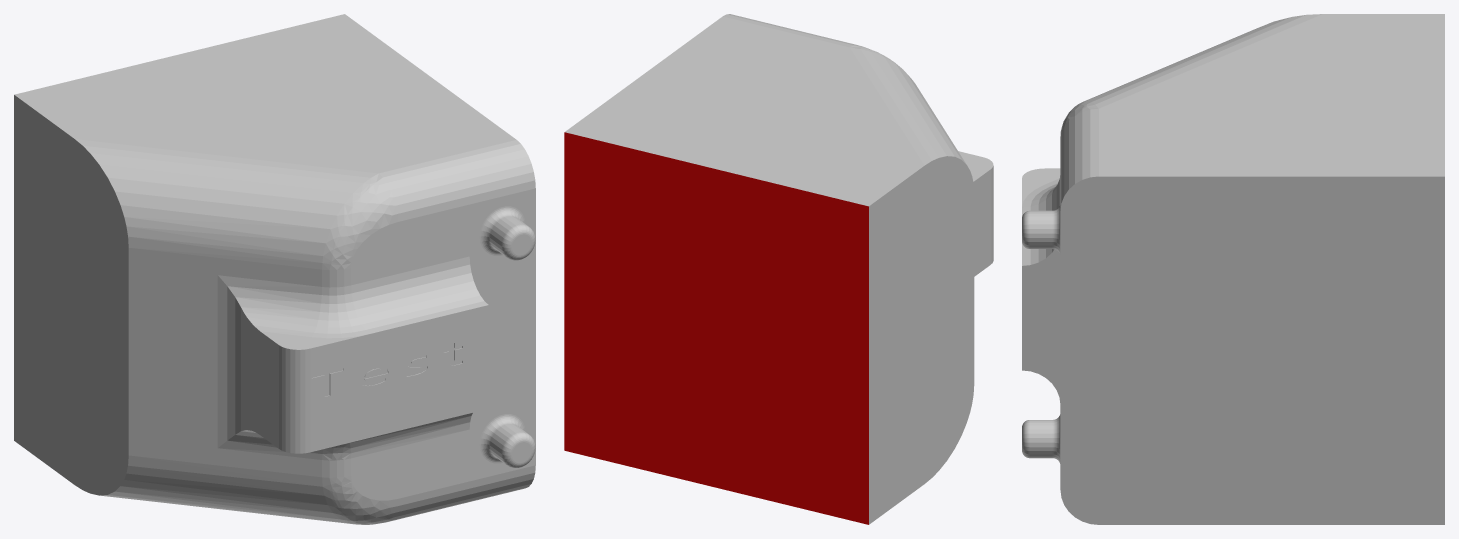
Rendered from TESTE_M1_stp_59.obj.
3 views of the same model, side by side, from view 1: azimuth 30°, elevation 25°; view 2: azimuth 150°, elevation 25°; view 3: azimuth 270°, elevation 25° (orthographic). The views are drawn at different scales.
Visible parts, largest first — view 1: Object1; view 2: Object1; view 3: Object1.
Part boxes in pixels (box(x1,y1,x2,y2)): Object1: box(14, 14, 535, 524); Object1: box(564, 14, 993, 524); Object1: box(1022, 14, 1444, 524).
Bounding box in the file's own units: 50 × 50 × 55.
